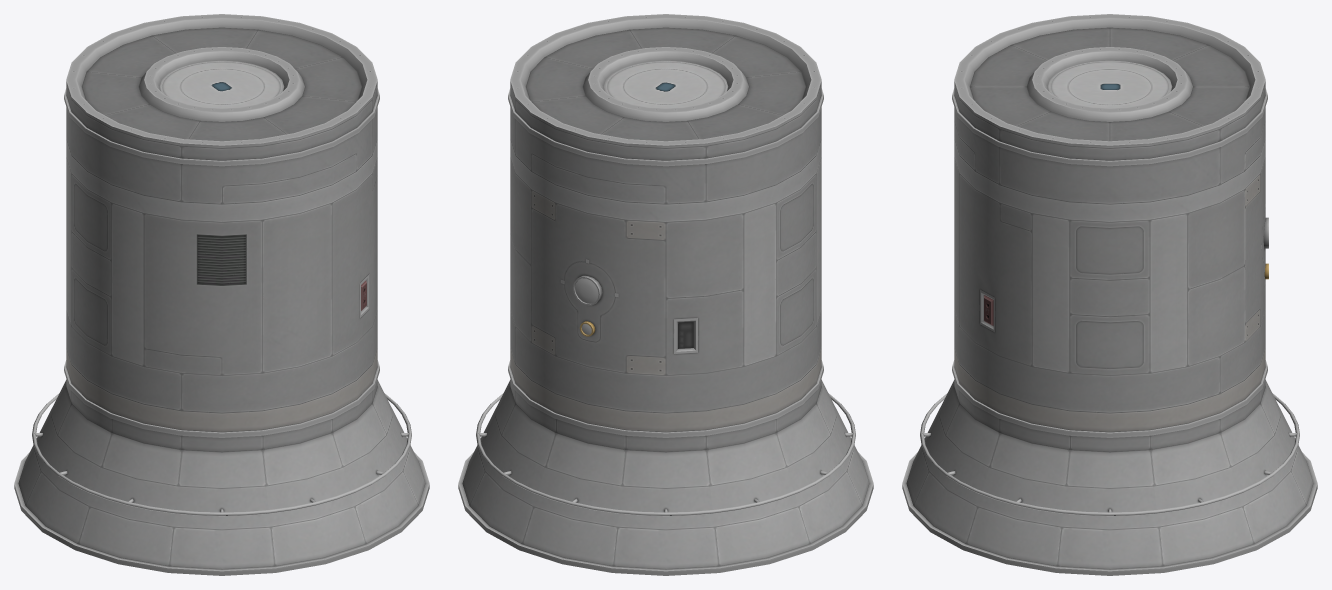
File: Eridani_Crew_1.obj
The picture shows the model from 3 angles, left to right: view 1: azimuth 30°, elevation 25°; view 2: azimuth 150°, elevation 25°; view 3: azimuth 270°, elevation 25°; orthographic projection.
Parts seen in each view (by area): view 1: Eridani_Crew_1; view 2: Eridani_Crew_1, Eridani_Crew_1_Windows; view 3: Eridani_Crew_1.
Part boxes in pixels (x1,y1,x2,y2): Eridani_Crew_1: (14, 14, 429, 575); Eridani_Crew_1: (458, 14, 873, 575); Eridani_Crew_1_Windows: (575, 278, 598, 334); Eridani_Crew_1: (902, 14, 1317, 575).
Size of the model in its own units: 2.5 by 2.71 by 2.5.
